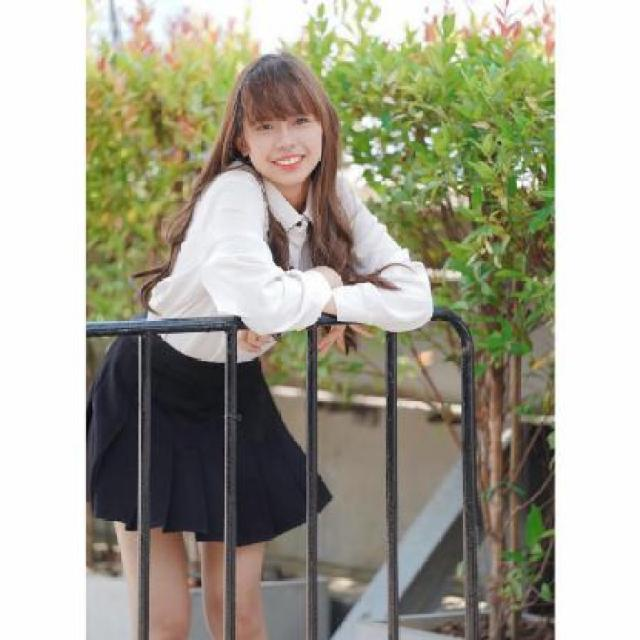sem_oculos: (224, 103, 336, 132)
